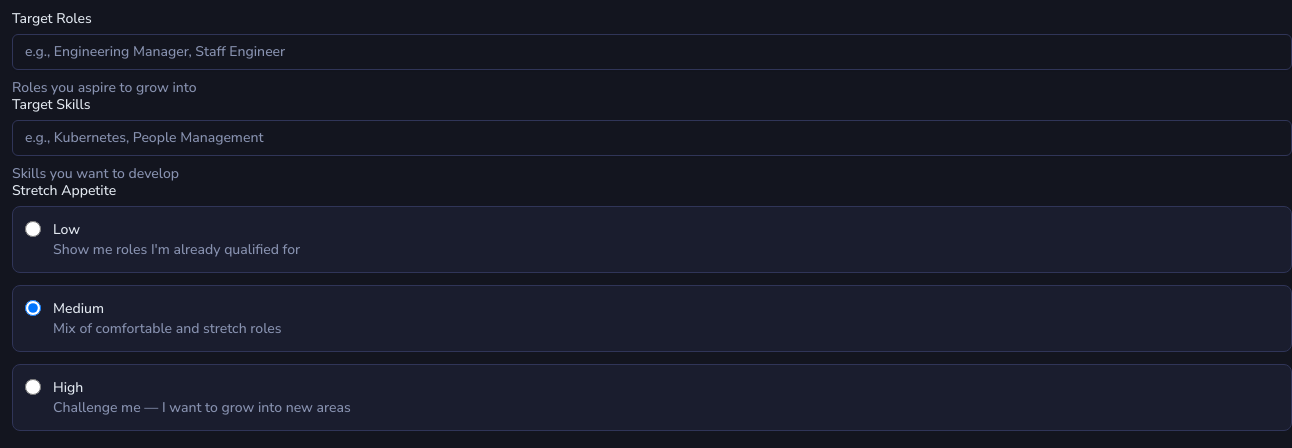
Test: GrowthTargetsFormFields › stretch appetite interaction › changes selection when clicking a different option
Expected: the radio button labelled "Medium Mix of comfortable and stretch roles" is checked, [25,300,41,316]
Click the radio button labelled "High Challenge me — I want to grow into new areas" at (33, 387), box [25,379,41,395]
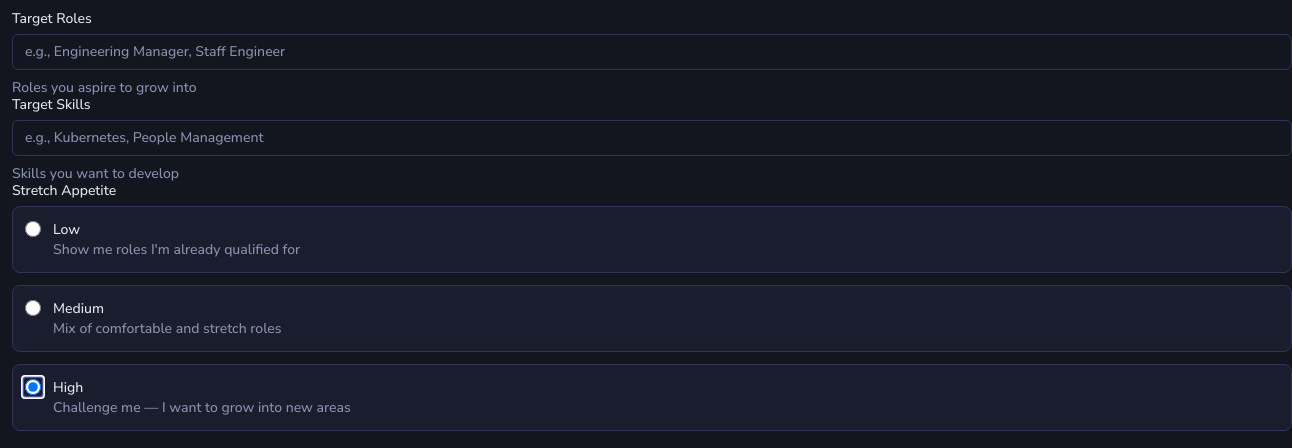
Expected: the radio button labelled "High Challenge me — I want to grow into new areas" is checked, [25,379,41,395]
Expected: the radio button labelled "Medium Mix of comfortable and stretch roles" is not checked, [25,300,41,316]
